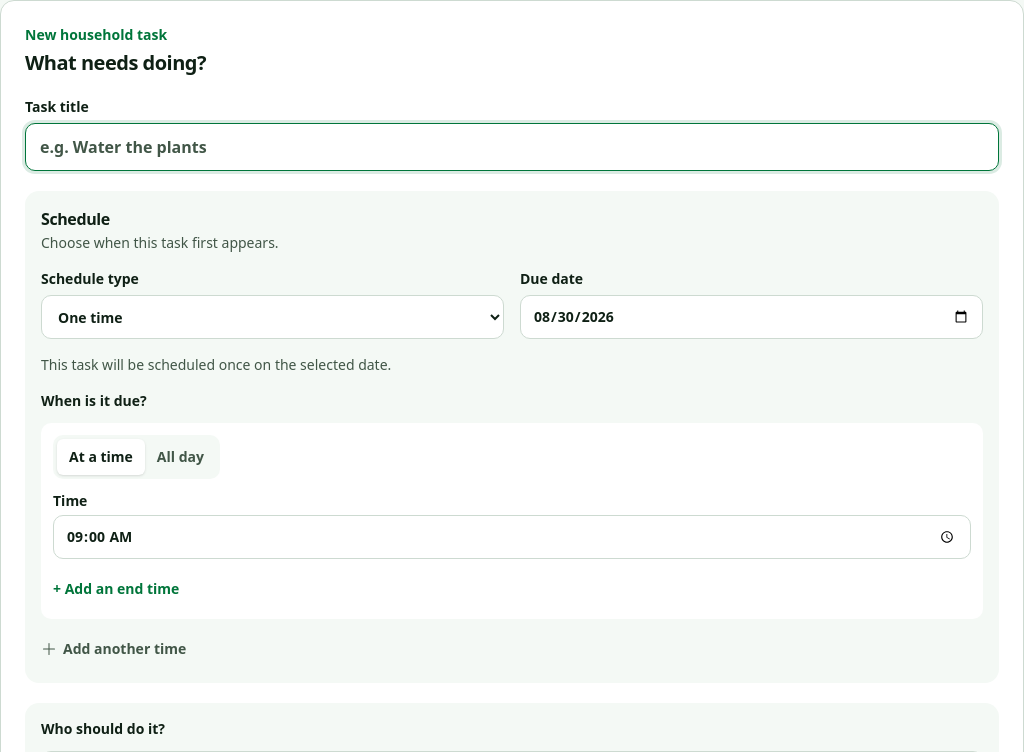
Scenario: TaskForm defaults › keeps the same duration when the start time changes
This screenshot has width=1024, height=752.
Click the button "+ Add an end time".
click(116, 589)  # box top-left (53, 571), bottom-right (179, 607)
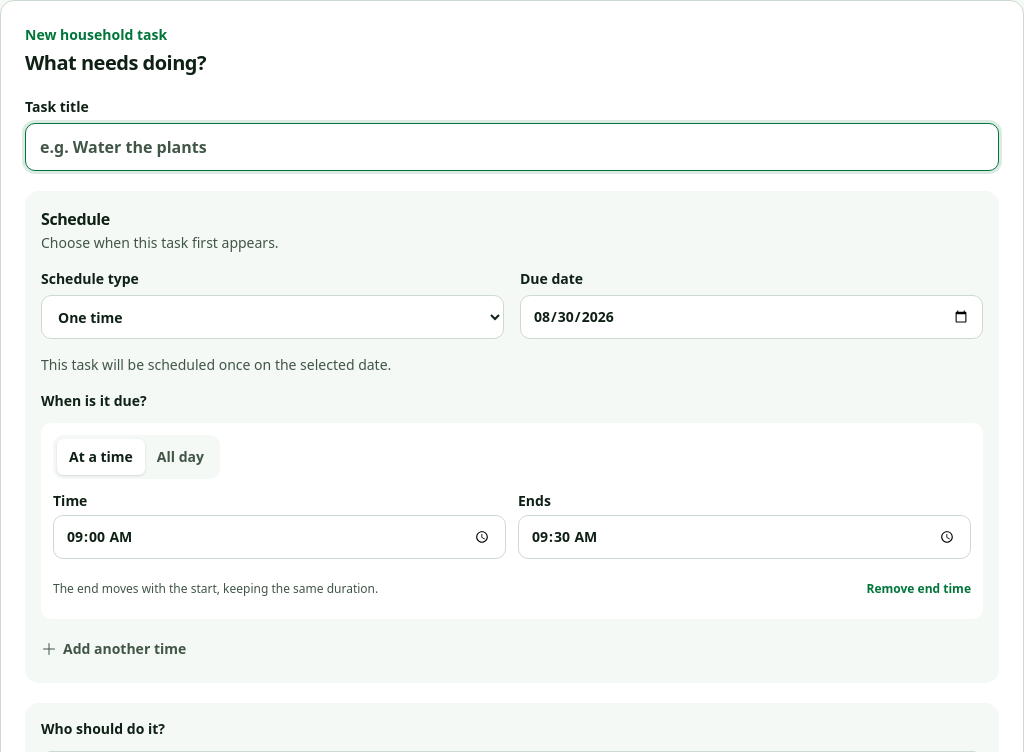
Replace the text in the time field labelled "Time" with "10:15" at (280, 537), box top-left (53, 515), bottom-right (506, 559)
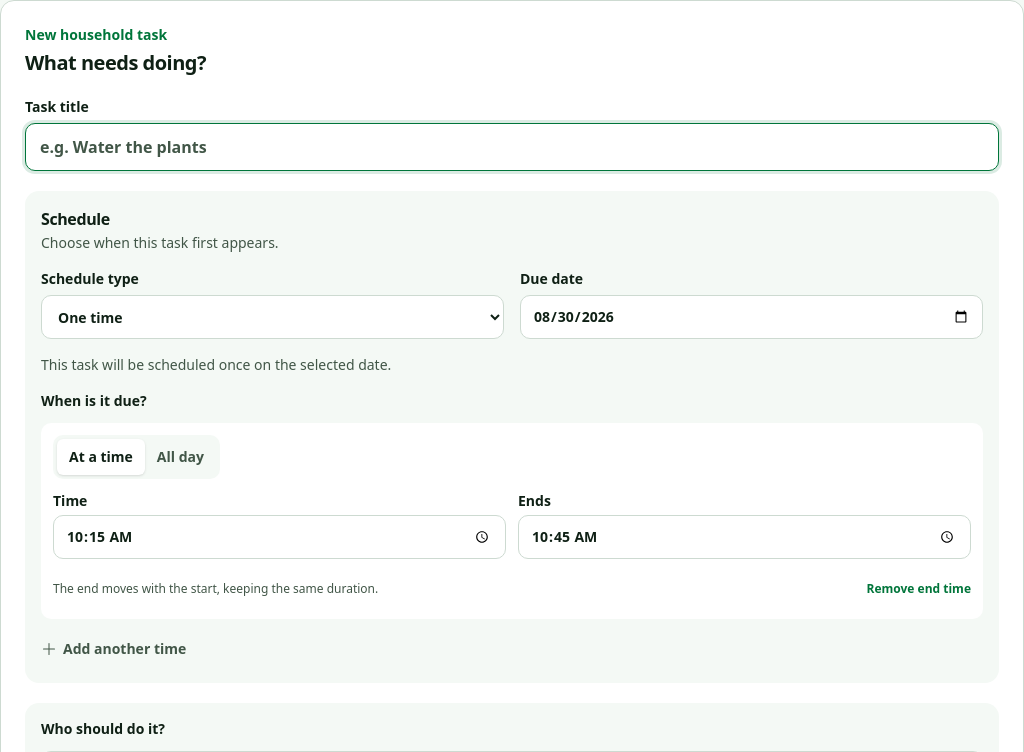
Now the time field labelled "Ends" holds "10:45", box top-left (518, 515), bottom-right (971, 559)
